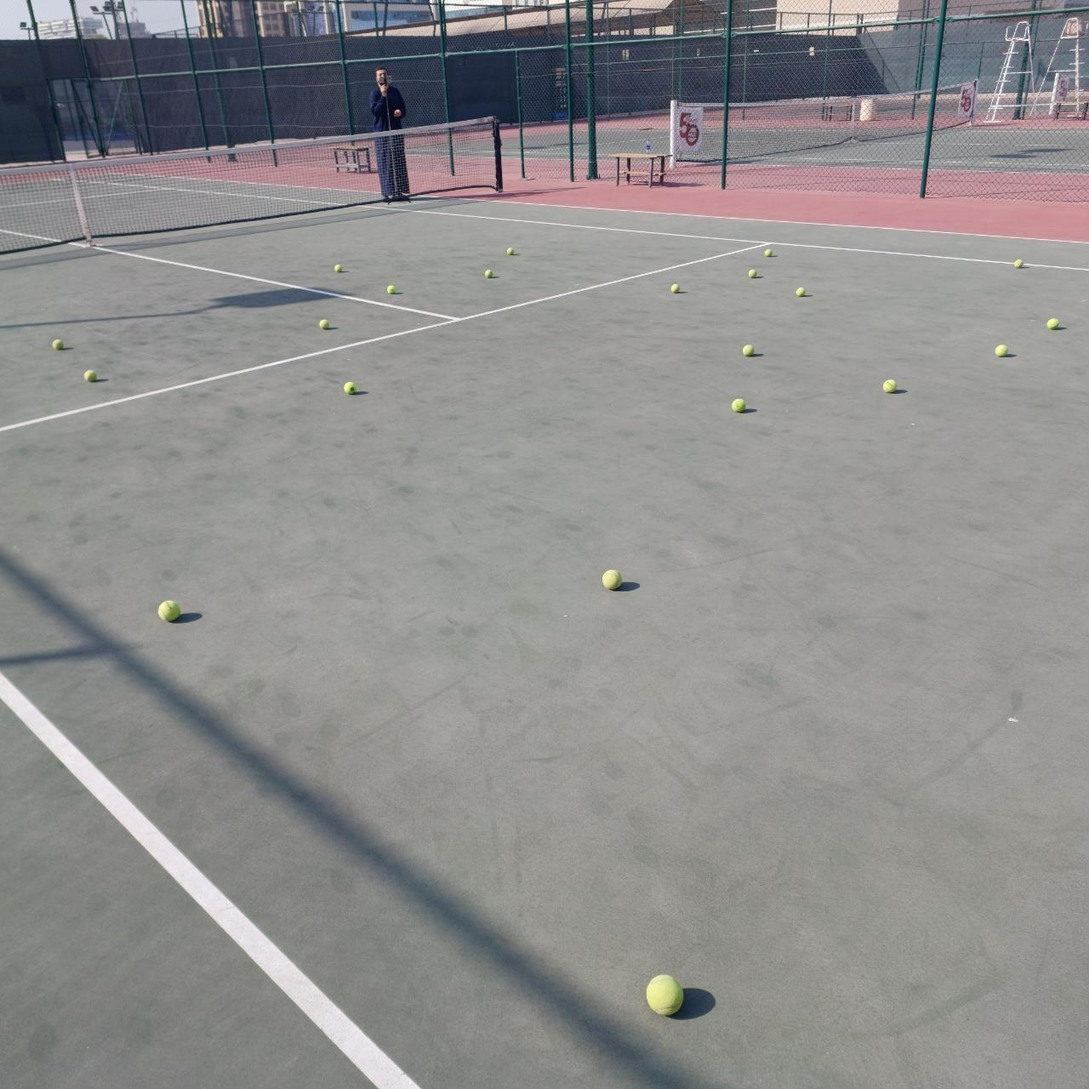tennis-ball: (644, 972, 683, 1016), (156, 597, 180, 621), (600, 567, 621, 590), (1046, 316, 1060, 331), (882, 379, 897, 393), (731, 398, 746, 412), (82, 368, 96, 381), (343, 380, 356, 394), (995, 344, 1009, 357), (51, 337, 63, 349), (742, 344, 754, 356), (318, 318, 330, 329), (796, 286, 806, 297), (748, 269, 758, 279), (386, 285, 396, 294), (671, 284, 680, 294), (1014, 259, 1024, 268), (485, 269, 493, 278), (765, 249, 773, 257), (335, 264, 342, 273), (507, 247, 514, 256)
